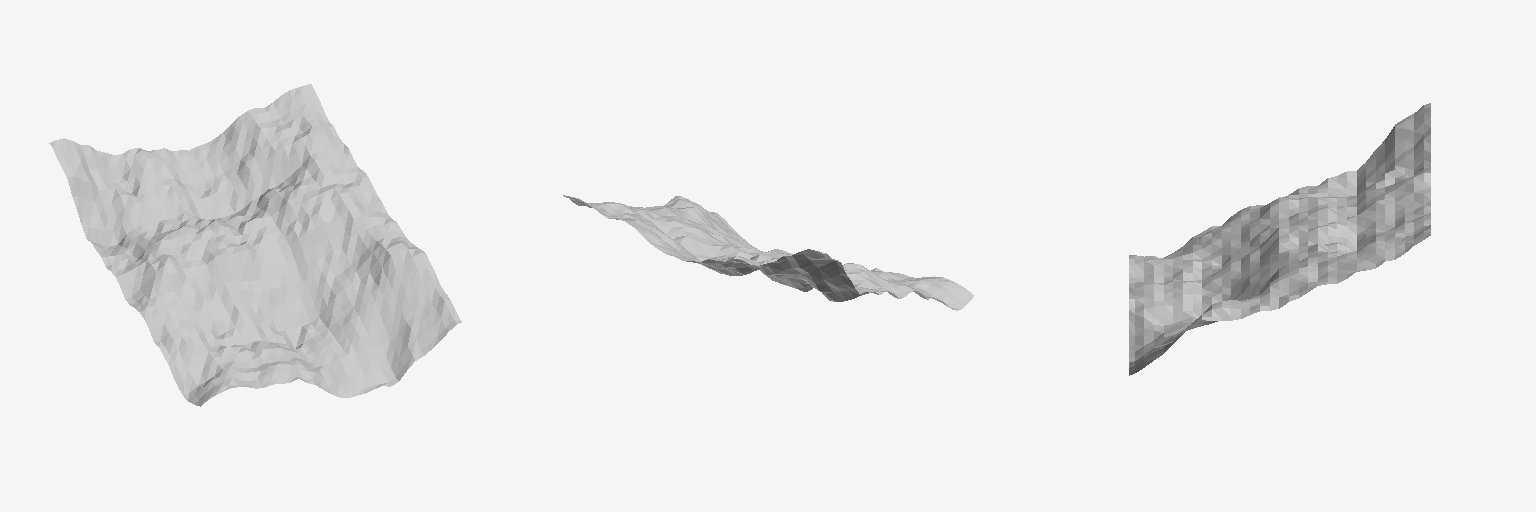
Rendered from heightmap.067.obj.
3 renders of one model, left to right at view 1: azimuth 30°, elevation 25°; view 2: azimuth 150°, elevation 25°; view 3: azimuth 270°, elevation 25°, orthographic.
Parts seen in each view (by area): view 1: heightmap.067_Plane.067; view 2: heightmap.067_Plane.067; view 3: heightmap.067_Plane.067.
Part boxes in pixels (bbox=[...]): heightmap.067_Plane.067: bbox=[49, 84, 461, 406]; heightmap.067_Plane.067: bbox=[563, 195, 973, 310]; heightmap.067_Plane.067: bbox=[1129, 103, 1430, 375].
Size of the model in its own units: 32 by 21.19 by 32.